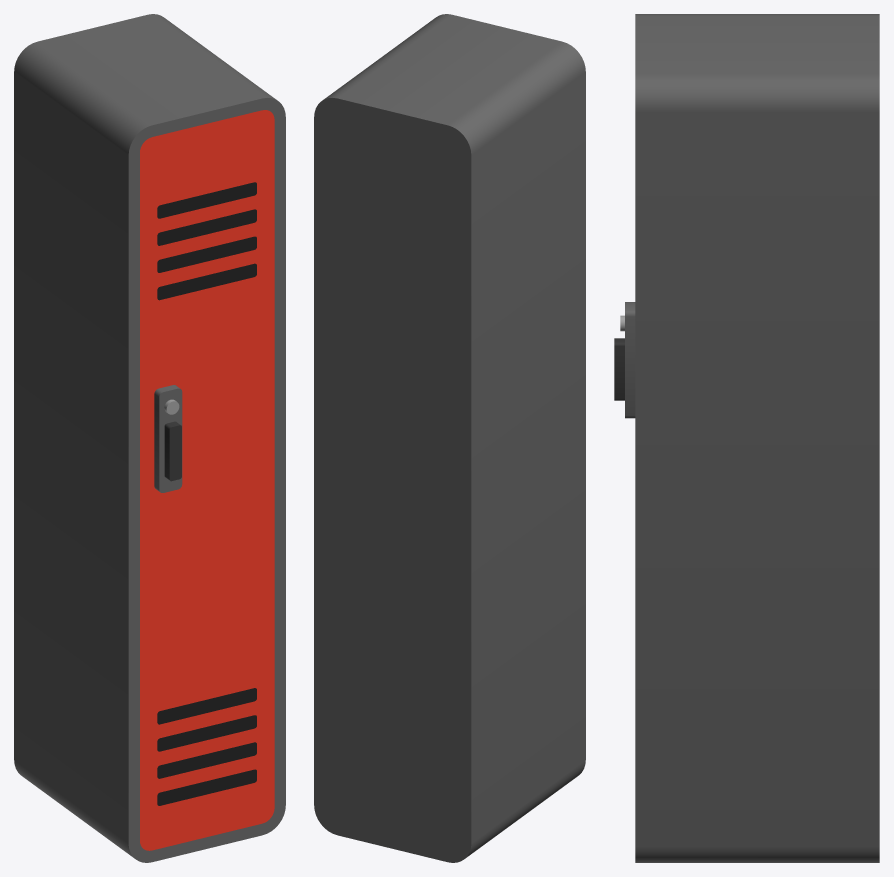
The model's file is Locker Red.fbx.
3 renders of one model, left to right at view 1: azimuth 30°, elevation 25°; view 2: azimuth 150°, elevation 25°; view 3: azimuth 270°, elevation 25°, orthographic. The views are drawn at different scales.
Parts seen in each view (by area): view 1: Locker Red, Locker Door Red; view 2: Locker Red; view 3: Locker Red, Locker Door Red.
Boxes of the visible parts, <box> form: Locker Red: <box>14,14,285,862</box>; Locker Door Red: <box>140,110,274,850</box>; Locker Red: <box>314,14,585,862</box>; Locker Red: <box>635,14,879,862</box>; Locker Door Red: <box>614,302,635,418</box>.
Size of the model in its own units: 57.6 by 258 by 78.94.
